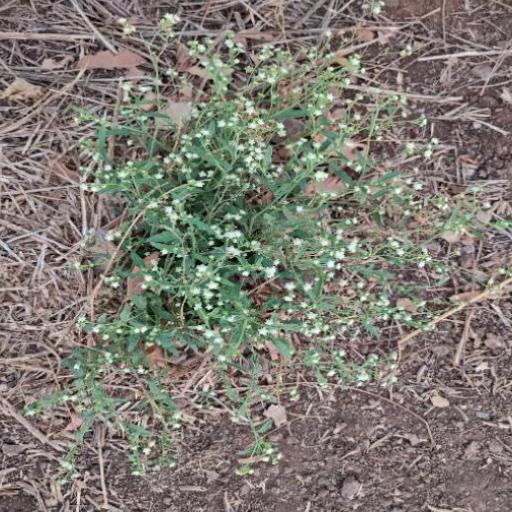weed: (68, 53, 412, 391)
